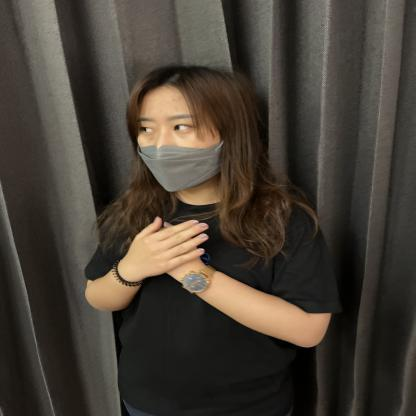Grieve: (91, 212, 254, 314)
